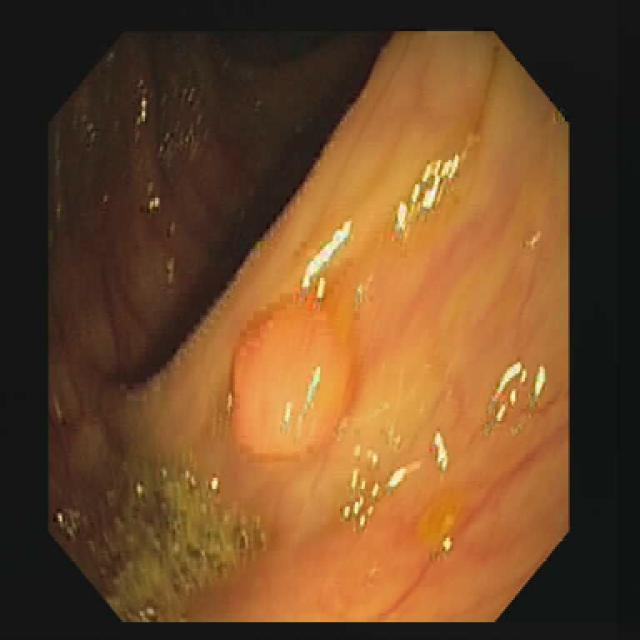tumor: (232, 298, 353, 453)
